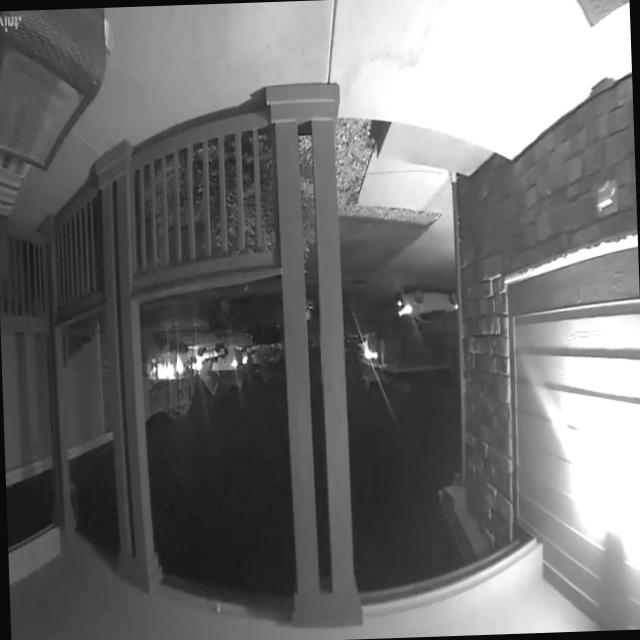car: (209, 282, 320, 350), (391, 260, 460, 330)
